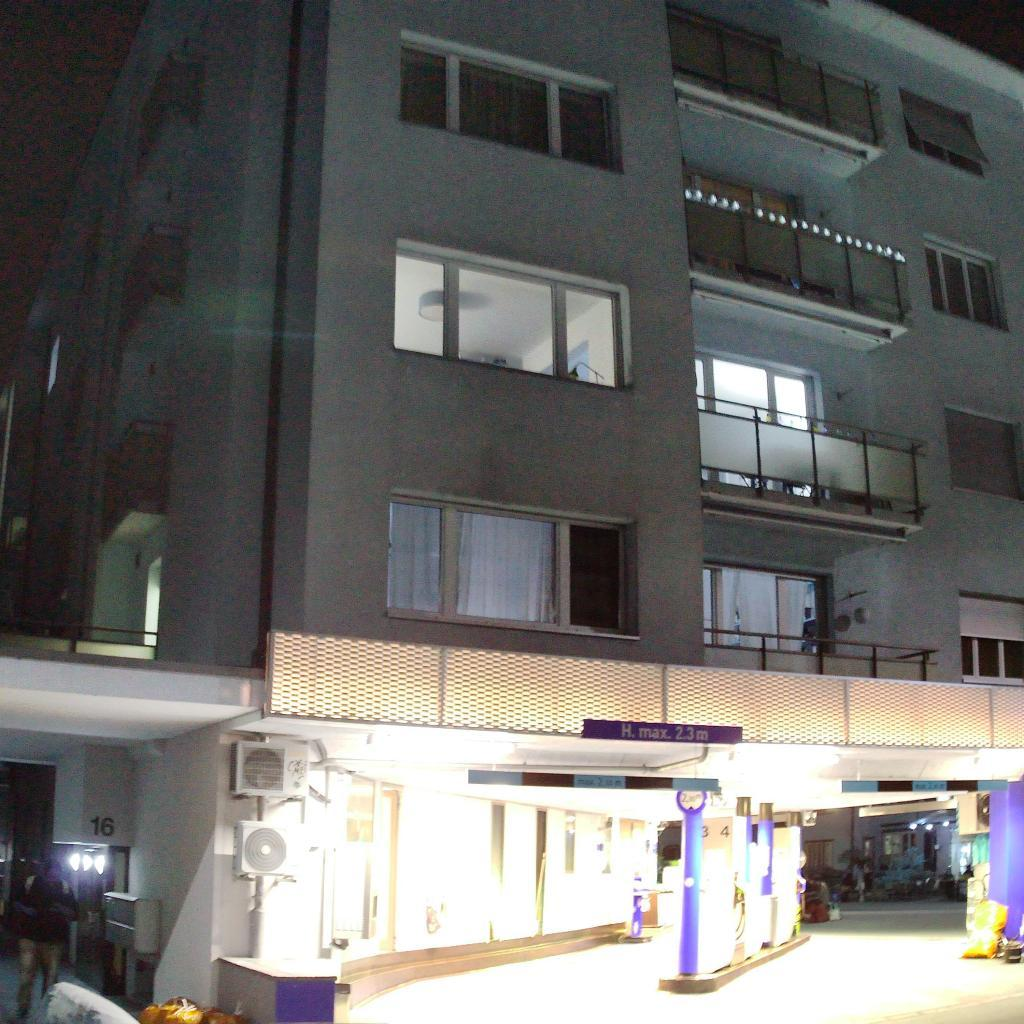balcony-fence: (664, 2, 887, 147), (683, 187, 912, 325), (697, 394, 933, 519), (700, 628, 942, 680), (107, 221, 187, 370), (93, 424, 172, 543), (136, 48, 205, 168), (0, 612, 158, 660)
facade: (0, 0, 1024, 1024)
shop: (211, 629, 1024, 1024)
street: (342, 932, 1024, 1024), (0, 937, 198, 1024)
window: (393, 245, 625, 392), (386, 493, 623, 631), (398, 40, 613, 170), (694, 348, 819, 497), (703, 560, 829, 652), (898, 87, 993, 178), (945, 407, 1022, 501), (923, 241, 999, 329), (959, 590, 1024, 678), (143, 554, 163, 647), (47, 333, 59, 397)
